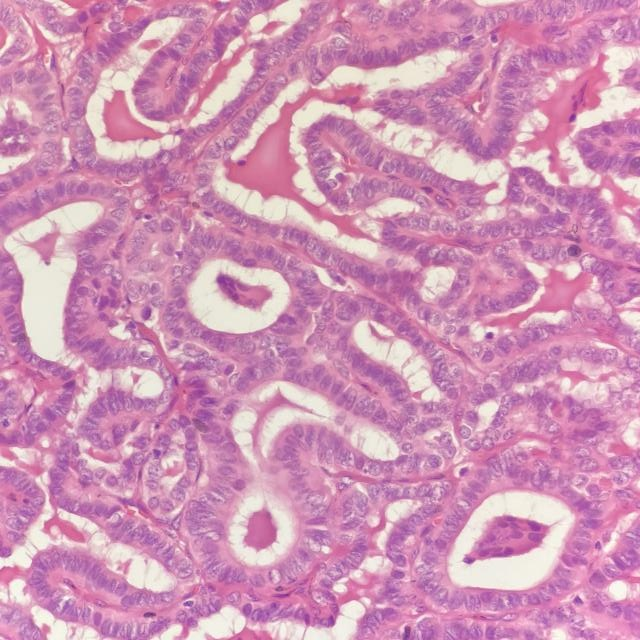TC: (299, 228, 323, 263), (348, 133, 376, 162), (341, 382, 362, 419), (450, 418, 482, 442), (188, 177, 220, 201), (417, 448, 447, 473), (239, 362, 269, 385), (454, 484, 491, 502), (359, 458, 388, 480), (323, 317, 352, 339), (399, 290, 425, 314), (409, 481, 437, 503), (422, 305, 447, 329), (228, 335, 256, 356), (422, 348, 451, 368), (486, 452, 506, 481), (466, 50, 493, 71), (396, 177, 417, 203), (307, 64, 330, 87), (437, 216, 457, 242), (422, 242, 445, 264), (475, 217, 493, 245), (437, 517, 467, 533), (343, 445, 361, 470), (365, 481, 383, 503), (228, 125, 252, 141), (488, 244, 511, 260), (287, 426, 310, 438)
